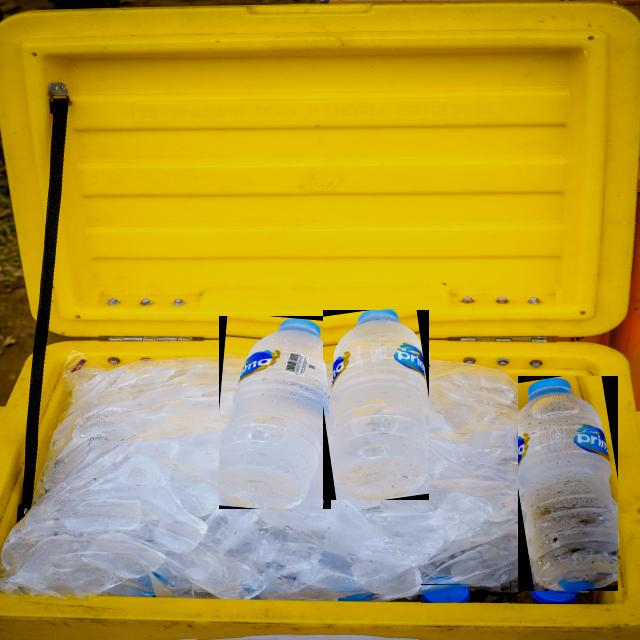Bottle: (220, 316, 331, 509), (519, 377, 618, 590), (323, 310, 429, 500), (511, 582, 589, 603), (422, 585, 470, 602)
